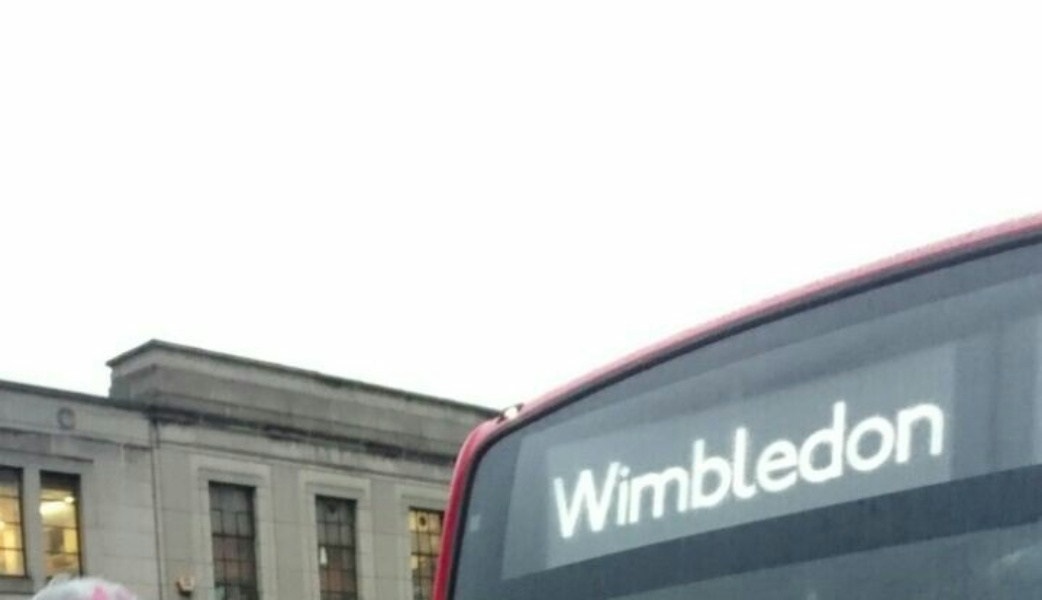text: (561, 370, 576, 543), (577, 370, 592, 543), (593, 370, 608, 543), (609, 370, 624, 543), (625, 370, 640, 543), (641, 370, 656, 543), (657, 370, 672, 543), (673, 370, 688, 543), (689, 370, 704, 543), (705, 370, 720, 543), (721, 370, 736, 543), (737, 370, 752, 543), (753, 370, 768, 543), (769, 370, 784, 543), (785, 370, 800, 543), (801, 370, 816, 543), (817, 370, 832, 543), (833, 370, 848, 543), (849, 370, 864, 543), (865, 370, 880, 543), (881, 370, 896, 543), (897, 370, 912, 543), (913, 370, 928, 543), (929, 370, 944, 543), (548, 370, 560, 543), (945, 370, 950, 543)
